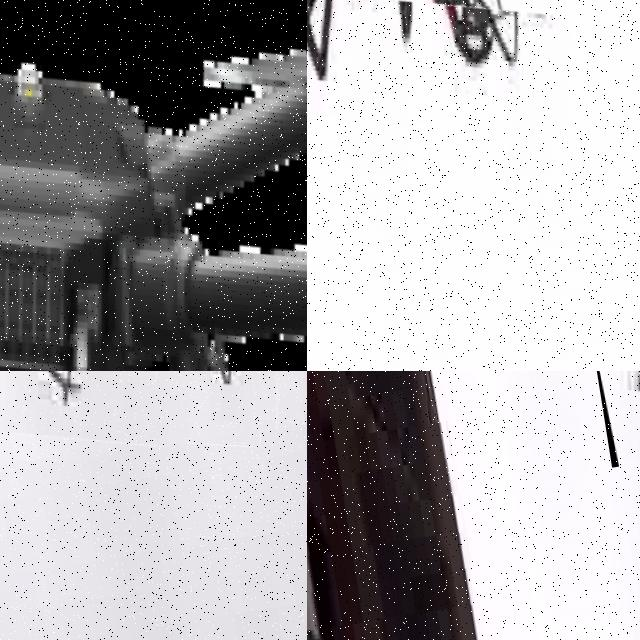0: (307, 0, 590, 230), (0, 371, 306, 477), (587, 371, 640, 467)
drone: (0, 0, 307, 371)
